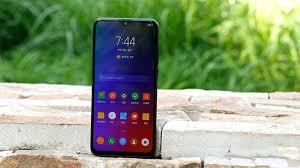lenovo: (89, 13, 163, 160)
